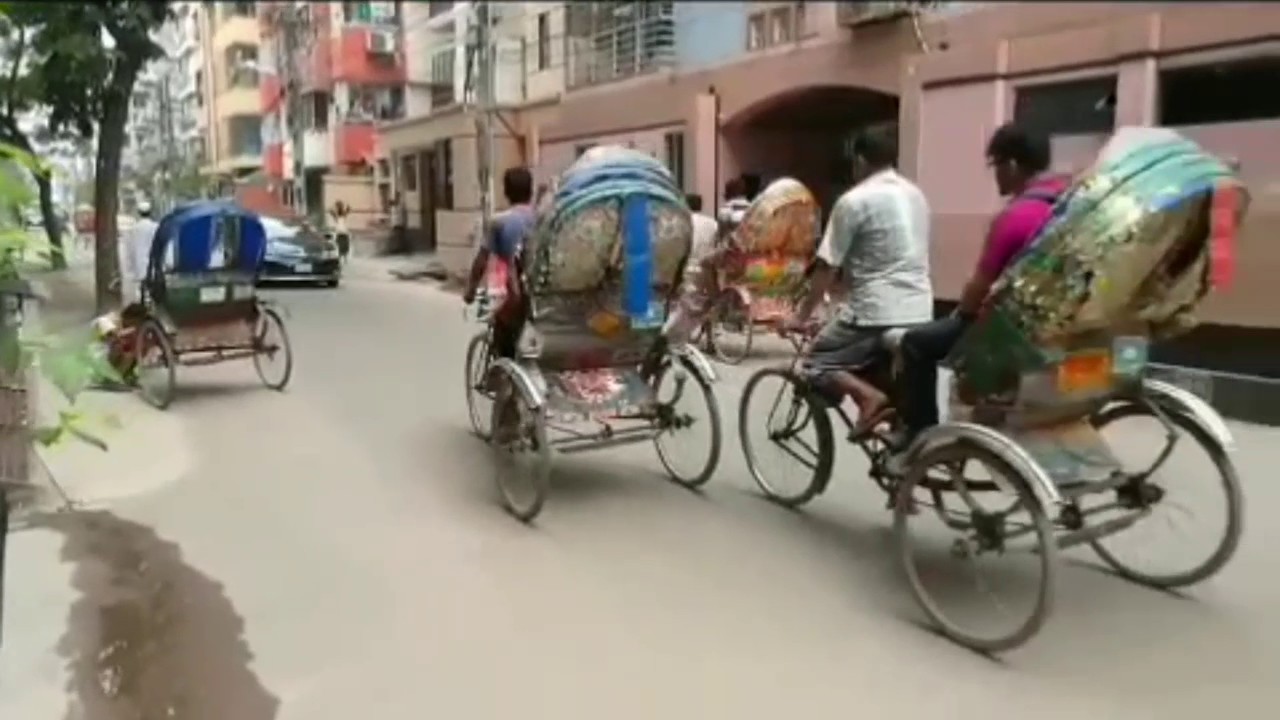Rickshaw: (743, 130, 1248, 672), (426, 117, 717, 514), (116, 185, 324, 418), (710, 178, 832, 366)
